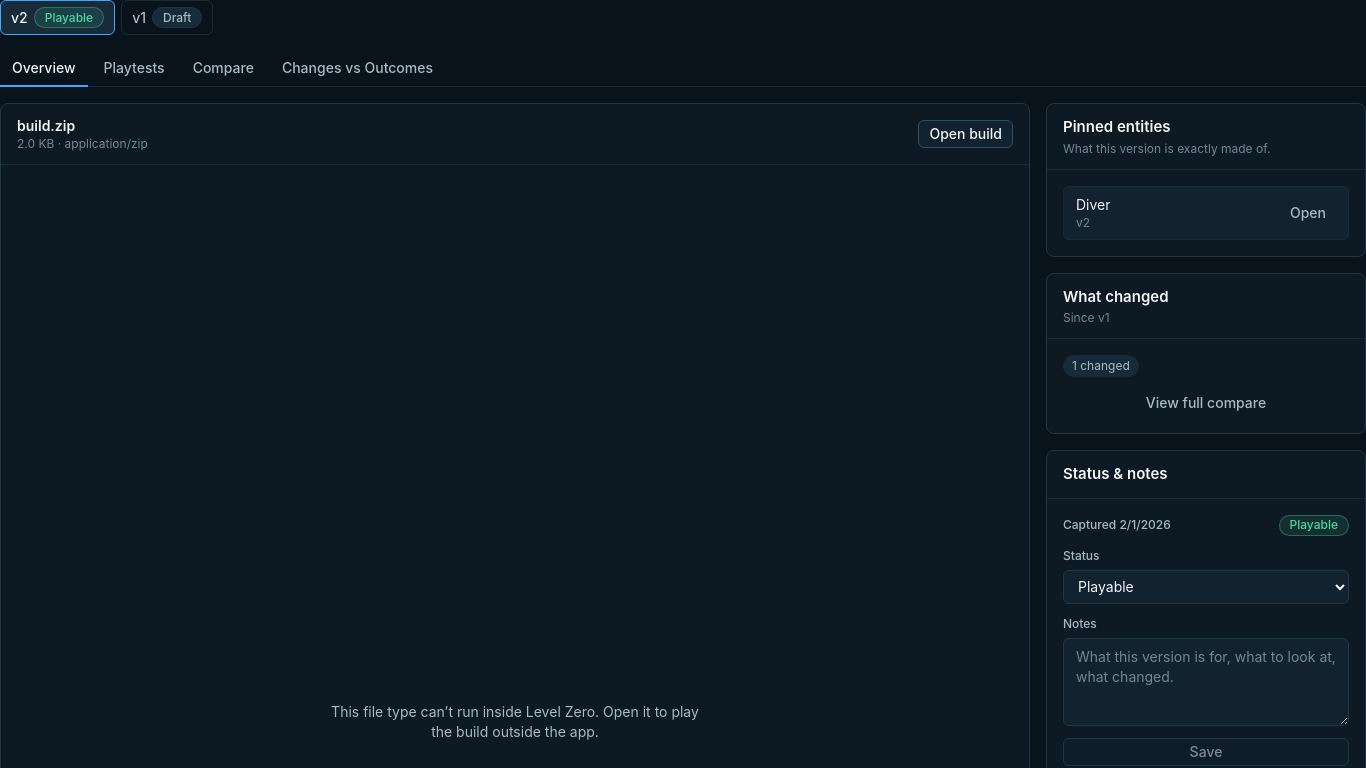
PrototypeDetailBody › compares versions using the shared compare primitives, showing the pin that moved
Expected: the text "Diver" is shown, [1076,194,1110,214]
Click the tab "Compare". click: (223, 68)
box: [181,50,266,86]
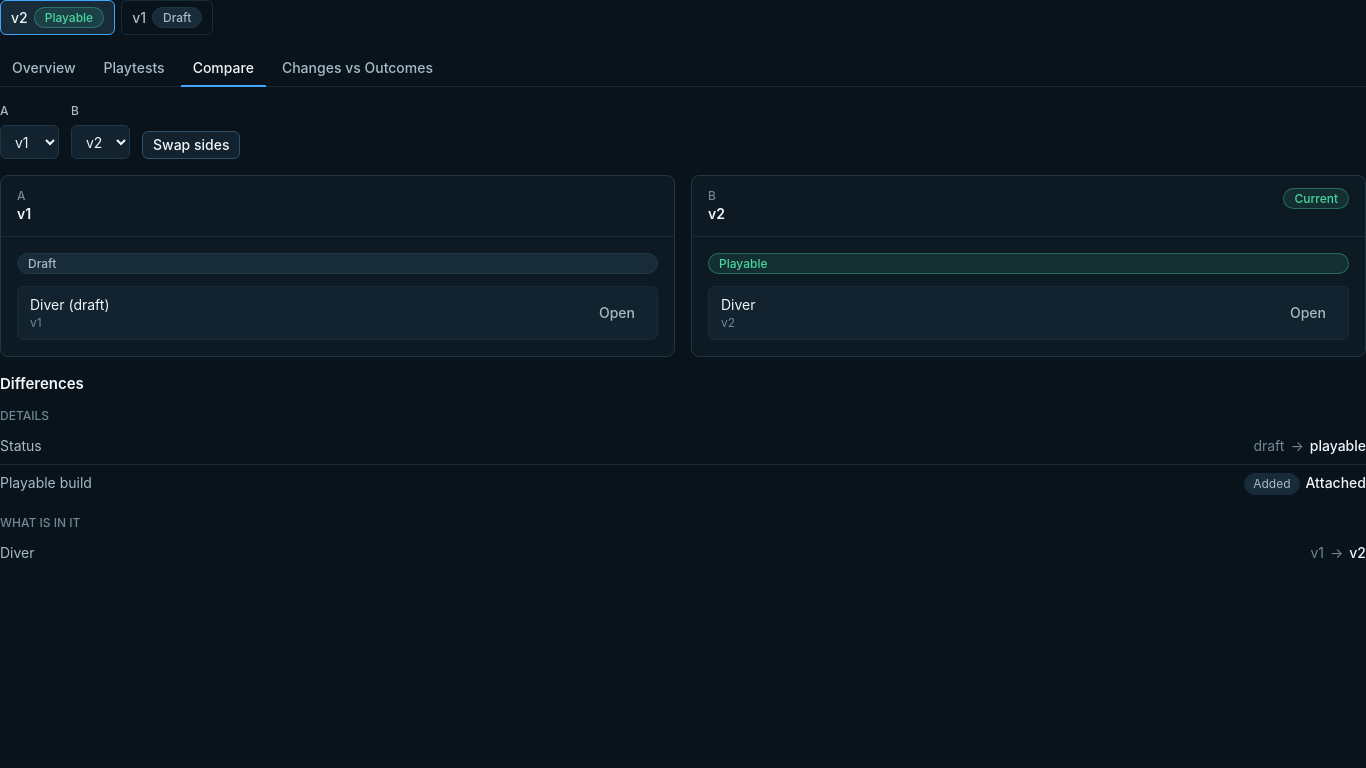
Expected: the text "Diver" below "What is in it" is shown, [0,544,34,560]
Expected: the text "v1" below "Added" is shown, [1310,544,1324,560]
Expected: the text "v2" below "Added" is shown, [1349,544,1365,560]
